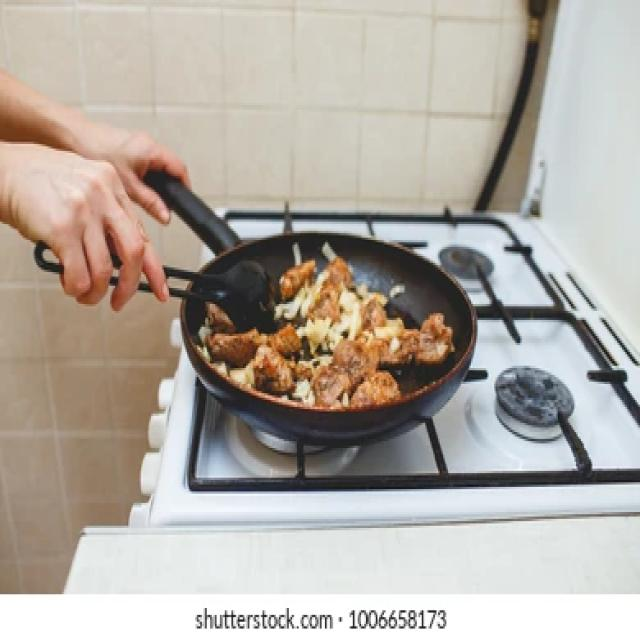knob_ON: (470, 360, 611, 459)
